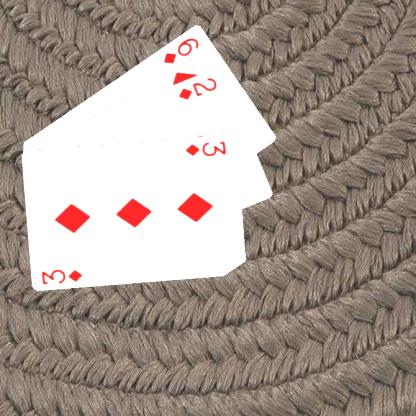2D: (176, 74, 218, 101)
3D: (39, 266, 85, 286), (182, 138, 228, 157)
6D: (161, 34, 200, 65)
